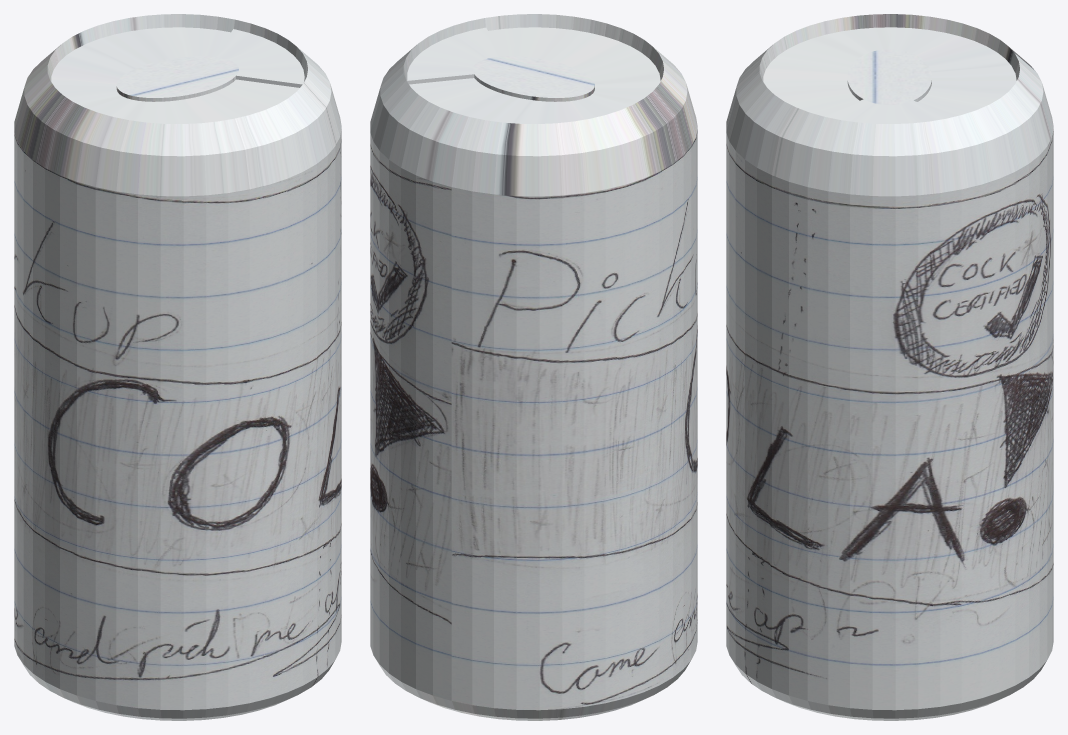
The model's file is can01.gltf.
3 views of the same model, side by side, from view 1: azimuth 30°, elevation 25°; view 2: azimuth 150°, elevation 25°; view 3: azimuth 270°, elevation 25° (orthographic).
Parts seen in each view (by area): view 1: Cylinder; view 2: Cylinder; view 3: Cylinder.
Part boxes in pixels (left/top/right/bottom): Cylinder: left=14, top=14, right=341, bottom=720; Cylinder: left=370, top=14, right=697, bottom=720; Cylinder: left=726, top=14, right=1053, bottom=720.
Bounding box in the file's own units: 2 × 3.97 × 2.
1 material, 1 textured.
